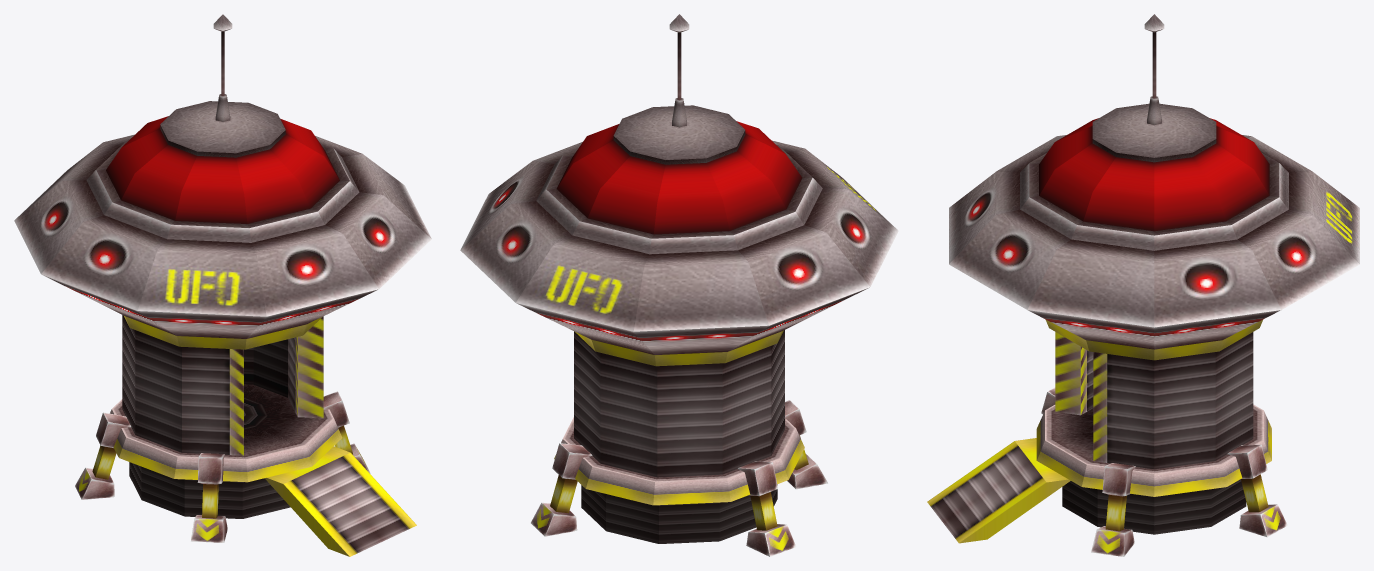
Rendered from Object_Shuttle.FBX.
3 views of the same model, side by side, from view 1: azimuth 30°, elevation 25°; view 2: azimuth 150°, elevation 25°; view 3: azimuth 270°, elevation 25° (orthographic). The views are drawn at different scales.
Parts seen in each view (by area): view 1: Line161, Line33, Line166, Line06, Line171, Line34, Line164, Line111, Line105, Line175, Line136, Line35 (+25 smaller); view 2: Line170, Line169, Line164, Line135, Line162, Line128, Line34, Line166, Line130, Line178, Line172, Line212 (+23 smaller); view 3: Line168, Line160, Line162, Line171, Line127, Line110, Line34, Line136, Line133, Line169, Line174, Line179 (+22 smaller).
Boxes of the visible parts, bbox=[...] form: Line161: bbox=[137, 221, 266, 316]; Line33: bbox=[247, 208, 378, 316]; Line166: bbox=[41, 200, 174, 310]; Line06: bbox=[182, 347, 243, 455]; Line171: bbox=[310, 180, 431, 288]; Line34: bbox=[160, 101, 285, 157]; Line164: bbox=[14, 169, 120, 273]; Line111: bbox=[135, 330, 181, 452]; Line105: bbox=[265, 466, 383, 556]; Line175: bbox=[175, 156, 247, 223]; Line136: bbox=[312, 446, 416, 540]; Line35: bbox=[236, 149, 310, 223]; Line170: bbox=[633, 231, 768, 331]; Line169: bbox=[516, 218, 653, 331]; Line164: bbox=[730, 209, 869, 325]; Line135: bbox=[657, 363, 722, 477]; Line162: bbox=[460, 189, 587, 302]; Line128: bbox=[600, 353, 657, 477]; Line34: bbox=[613, 105, 745, 164]; Line166: bbox=[786, 177, 898, 286]; Line130: bbox=[722, 346, 771, 474]; Line178: bbox=[653, 163, 729, 234]; Line172: bbox=[588, 156, 665, 234]; Line212: bbox=[723, 456, 796, 556]; Line168: bbox=[1027, 221, 1154, 327]; Line160: bbox=[1154, 221, 1280, 327]; Line162: bbox=[1226, 196, 1359, 309]; Line171: bbox=[949, 196, 1082, 309]; Line127: bbox=[1154, 352, 1215, 469]; Line110: bbox=[1093, 352, 1154, 469]; Line34: bbox=[1092, 103, 1216, 162]; Line136: bbox=[943, 461, 1070, 543]; Line133: bbox=[1215, 332, 1253, 460]; Line169: bbox=[1269, 163, 1359, 263]; Line174: bbox=[1083, 157, 1154, 231]; Line179: bbox=[1154, 157, 1225, 231].
Size of the model in its own units: 234 by 286 by 234.
